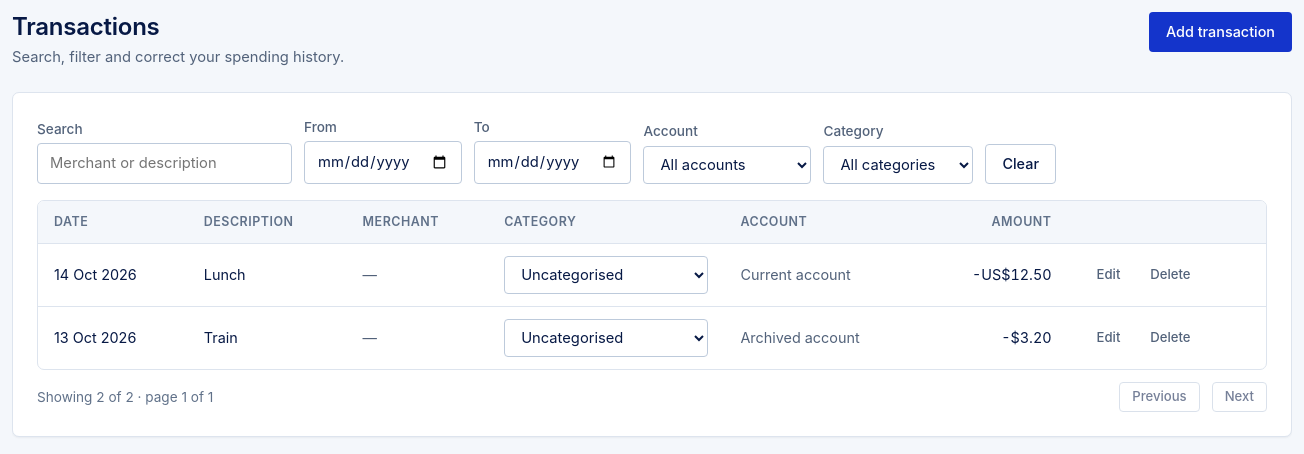
Test: transaction controls › clears both the visible search and the API filter
This screenshot has width=1304, height=454.
Expected: the button with aria-label "Edit Lunch" is shown, [1084,260,1133,290]
In the search field labelled "Search": (164, 164) [37,144,292,184], type "Lunch"
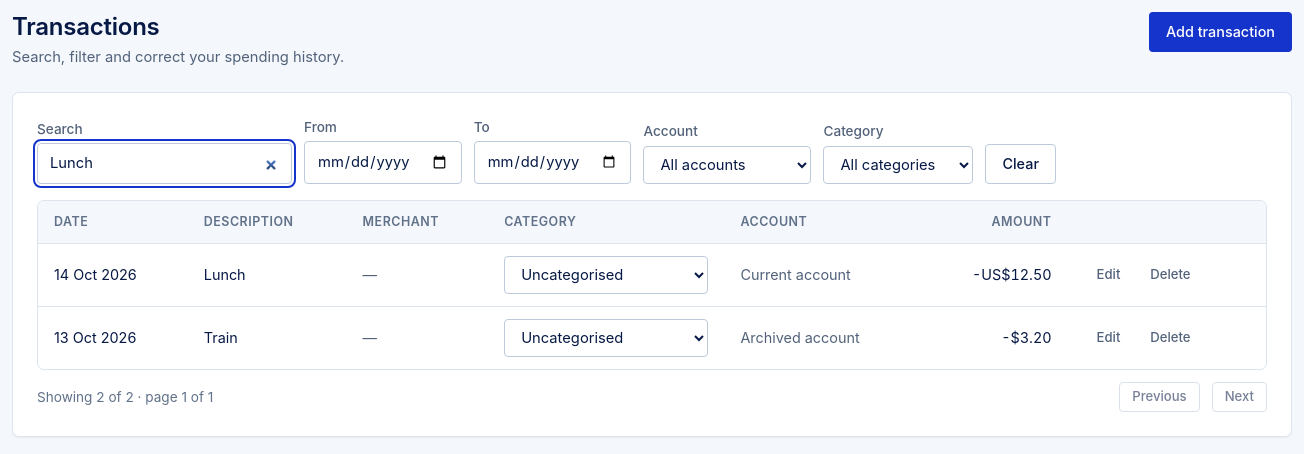
Click the button "Clear": click(1021, 164) [985,144,1056,184]
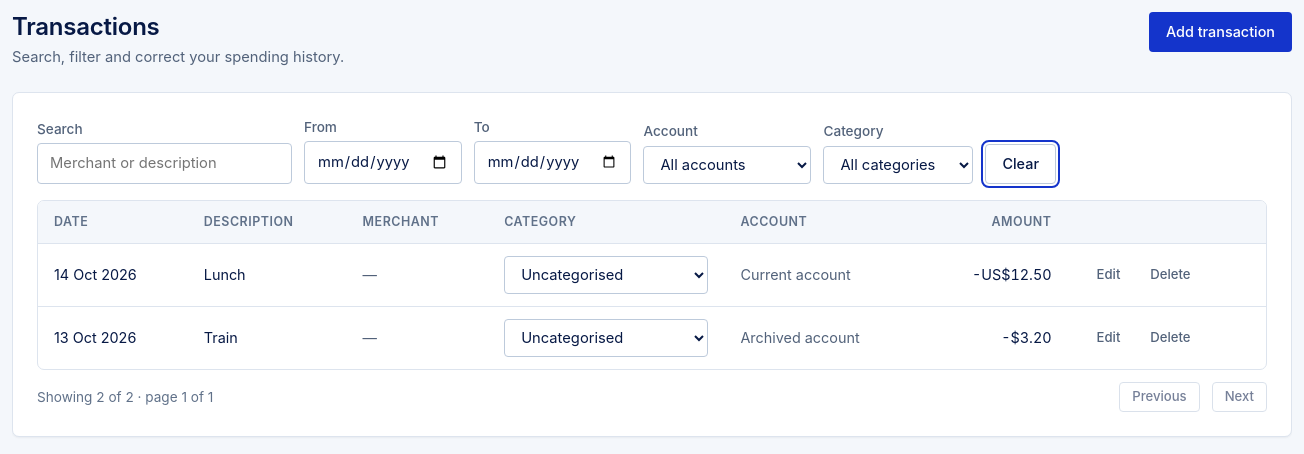
Now the search field labelled "Search" is empty, box [37,144,292,184]
